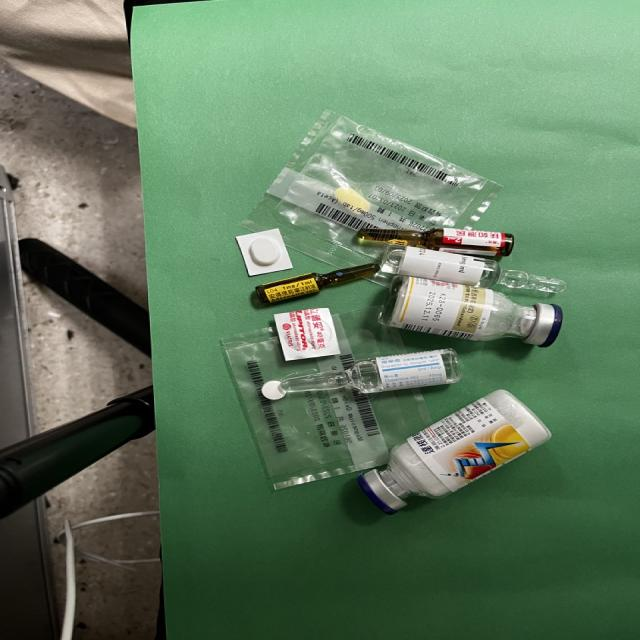Ampoules: (380, 244, 567, 294), (281, 348, 461, 394), (255, 264, 381, 303), (357, 228, 515, 256)
Vials: (357, 390, 552, 516), (377, 276, 563, 348)
